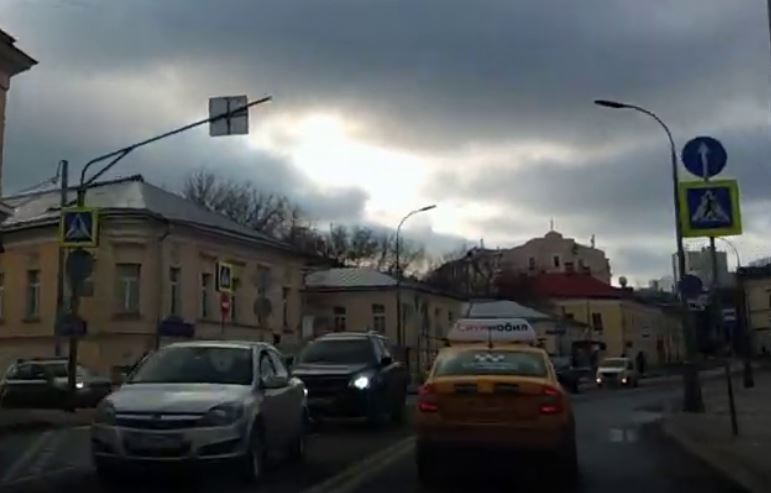Yaya Gecidi: (690, 189, 733, 226), (61, 213, 95, 241)
